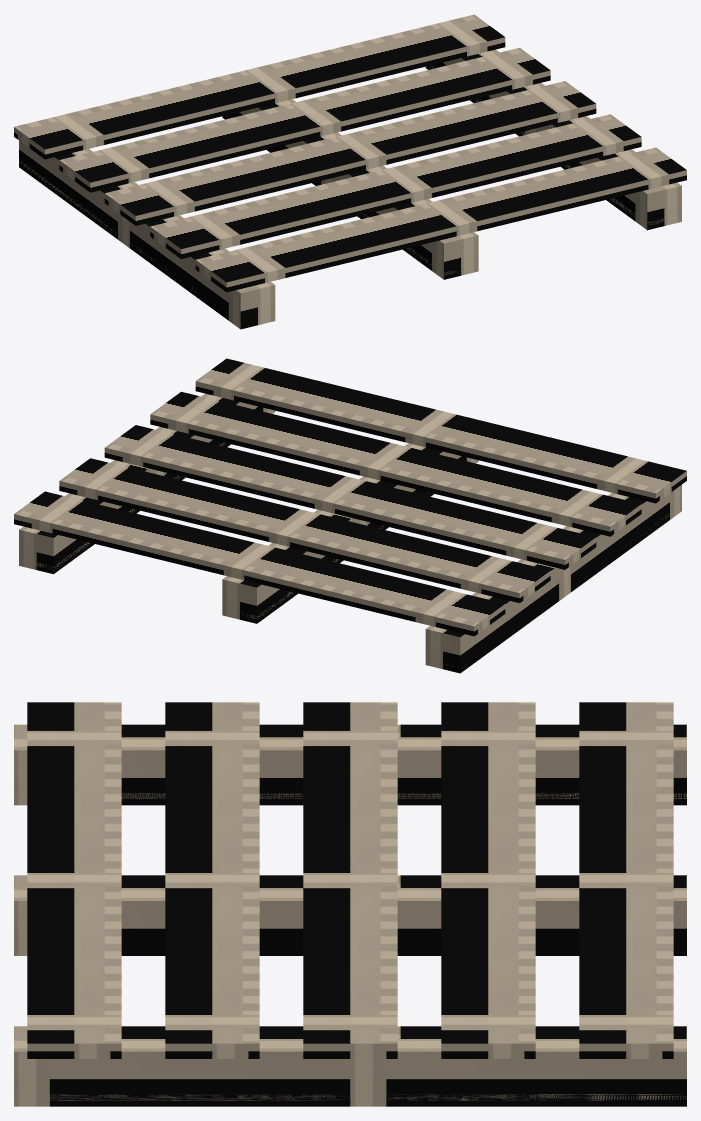
Rendered from pallet.glb.
The picture shows the model from 3 angles, top to bottom: view 1: azimuth 30°, elevation 25°; view 2: azimuth 150°, elevation 25°; view 3: azimuth 270°, elevation 25°; orthographic projection. The views are drawn at different scales.
Parts seen in each view (by area): view 1: pallet; view 2: pallet; view 3: pallet.
Part boxes in pixels (x1=…): pallet: x1=14, y1=14, x2=686, y2=329; pallet: x1=14, y1=358, x2=686, y2=673; pallet: x1=14, y1=702, x2=686, y2=1106.
Bounding box in the file's own units: 1.2 × 0.115 × 1.
Materials: 1 (1 with a texture image).
